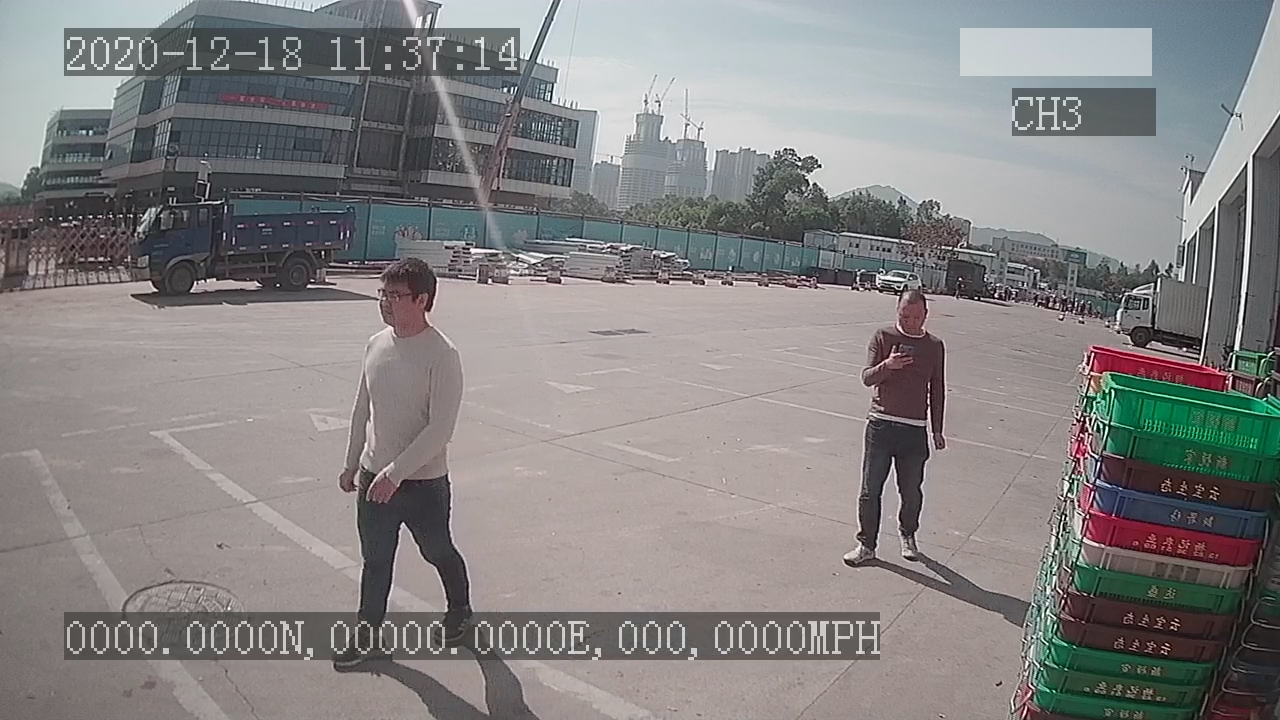person: (843, 284, 948, 569)
